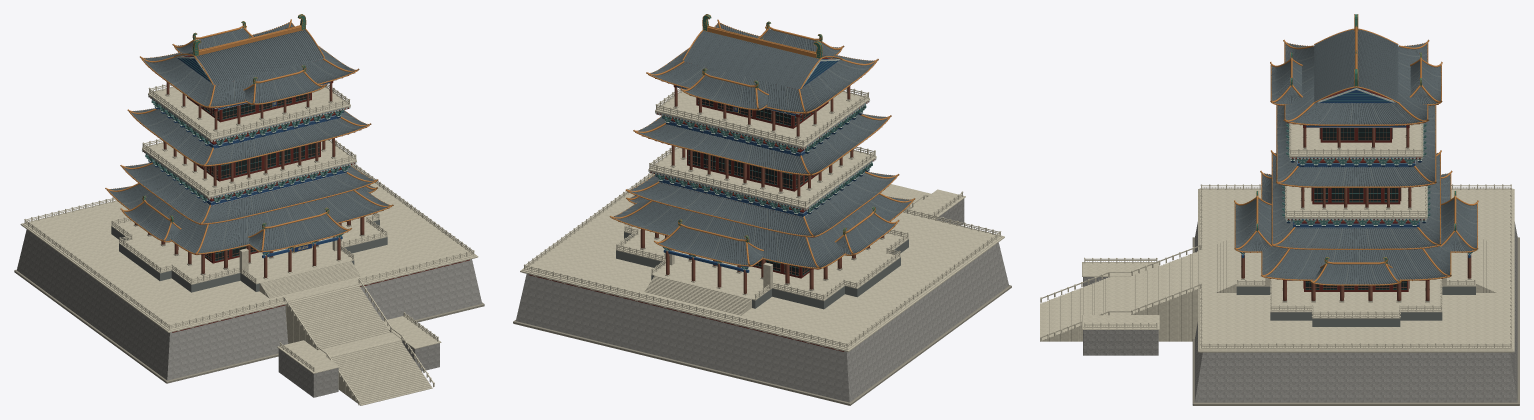
Rendered from guanque-exploration.glb.
3 renders of one model, left to right at view 1: azimuth 30°, elevation 25°; view 2: azimuth 150°, elevation 25°; view 3: azimuth 270°, elevation 25°, orthographic. The views are drawn at different scales.
Visible parts, largest first — view 1: 台基与外阶 · 内分三层 · podium · 石材 · 暖白石灰石, 台基与外阶 · 内分三层 · podium · 台基 · 灰砖包砌, 下部楼身 · 一至三层 · tile · 筒瓦 · 灰陶细纹, 下部楼身 · 一至三层 · structure · 筒瓦 · 灰陶细纹, 上部楼身 · 六层与屋顶 · tile · 筒瓦 · 灰陶细纹, 下部楼身 · 一至三层 · structure · 石材 · 暖白石灰石, 上部楼身 · 六层与屋顶 · structure · 筒瓦 · 灰陶细纹, 中部楼身 · 四至五层 · tile · 筒瓦 · 灰陶细纹, 上部楼身 · 六层与屋顶 · structure · 石材 · 暖白石灰石, 中部楼身 · 四至五层 · structure · 石材 · 暖白石灰石, 中部楼身 · 四至五层 · structure · 筒瓦 · 灰陶细纹, 下部楼身 · 一至三层 · structure · 瓦口与脊饰 · 赭金琉璃 (+21 smaller); view 2: 台基与外阶 · 内分三层 · podium · 台基 · 灰砖包砌, 台基与外阶 · 内分三层 · podium · 石材 · 暖白石灰石, 下部楼身 · 一至三层 · tile · 筒瓦 · 灰陶细纹, 下部楼身 · 一至三层 · structure · 筒瓦 · 灰陶细纹, 上部楼身 · 六层与屋顶 · tile · 筒瓦 · 灰陶细纹, 下部楼身 · 一至三层 · structure · 石材 · 暖白石灰石, 上部楼身 · 六层与屋顶 · structure · 筒瓦 · 灰陶细纹, 中部楼身 · 四至五层 · tile · 筒瓦 · 灰陶细纹, 上部楼身 · 六层与屋顶 · structure · 石材 · 暖白石灰石, 中部楼身 · 四至五层 · structure · 石材 · 暖白石灰石, 中部楼身 · 四至五层 · structure · 筒瓦 · 灰陶细纹, 下部楼身 · 一至三层 · structure · 瓦口与脊饰 · 赭金琉璃 (+21 smaller); view 3: 台基与外阶 · 内分三层 · podium · 石材 · 暖白石灰石, 台基与外阶 · 内分三层 · podium · 台基 · 灰砖包砌, 下部楼身 · 一至三层 · tile · 筒瓦 · 灰陶细纹, 上部楼身 · 六层与屋顶 · tile · 筒瓦 · 灰陶细纹, 下部楼身 · 一至三层 · structure · 筒瓦 · 灰陶细纹, 下部楼身 · 一至三层 · structure · 石材 · 暖白石灰石, 中部楼身 · 四至五层 · tile · 筒瓦 · 灰陶细纹, 上部楼身 · 六层与屋顶 · structure · 石材 · 暖白石灰石, 中部楼身 · 四至五层 · structure · 石材 · 暖白石灰石, 中部楼身 · 四至五层 · structure · 筒瓦 · 灰陶细纹, 上部楼身 · 六层与屋顶 · structure · 筒瓦 · 灰陶细纹, 台基与外阶 · 内分三层 · podium · 石材 · 基脚阴线 (+19 smaller).
Boxes of the visible parts, left/top/right/bottom form: 台基与外阶 · 内分三层 · podium · 石材 · 暖白石灰石: left=20, top=164, right=478, bottom=405; 台基与外阶 · 内分三层 · podium · 台基 · 灰砖包砌: left=17, top=229, right=481, bottom=397; 下部楼身 · 一至三层 · tile · 筒瓦 · 灰陶细纹: left=108, top=163, right=389, bottom=253; 下部楼身 · 一至三层 · structure · 筒瓦 · 灰陶细纹: left=109, top=165, right=382, bottom=253; 上部楼身 · 六层与屋顶 · tile · 筒瓦 · 灰陶细纹: left=143, top=22, right=354, bottom=106; 下部楼身 · 一至三层 · structure · 石材 · 暖白石灰石: left=111, top=213, right=387, bottom=298; 上部楼身 · 六层与屋顶 · structure · 筒瓦 · 灰陶细纹: left=144, top=23, right=351, bottom=106; 中部楼身 · 四至五层 · tile · 筒瓦 · 灰陶细纹: left=131, top=108, right=367, bottom=164; 上部楼身 · 六层与屋顶 · structure · 石材 · 暖白石灰石: left=148, top=84, right=350, bottom=140; 中部楼身 · 四至五层 · structure · 石材 · 暖白石灰石: left=142, top=139, right=356, bottom=197; 中部楼身 · 四至五层 · structure · 筒瓦 · 灰陶细纹: left=132, top=110, right=358, bottom=165; 下部楼身 · 一至三层 · structure · 瓦口与脊饰 · 赭金琉璃: left=105, top=162, right=393, bottom=254; 台基与外阶 · 内分三层 · podium · 台基 · 灰砖包砌: left=516, top=198, right=1008, bottom=402; 台基与外阶 · 内分三层 · podium · 石材 · 暖白石灰石: left=520, top=173, right=1004, bottom=352; 下部楼身 · 一至三层 · tile · 筒瓦 · 灰陶细纹: left=613, top=172, right=911, bottom=267; 下部楼身 · 一至三层 · structure · 筒瓦 · 灰陶细纹: left=621, top=173, right=910, bottom=267; 上部楼身 · 六层与屋顶 · tile · 筒瓦 · 灰陶细纹: left=650, top=23, right=875, bottom=112; 下部楼身 · 一至三层 · structure · 石材 · 暖白石灰石: left=616, top=225, right=908, bottom=315; 上部楼身 · 六层与屋顶 · structure · 筒瓦 · 灰陶细纹: left=658, top=24, right=873, bottom=112; 中部楼身 · 四至五层 · tile · 筒瓦 · 灰陶细纹: left=638, top=114, right=887, bottom=174; 上部楼身 · 六层与屋顶 · structure · 石材 · 暖白石灰石: left=655, top=88, right=869, bottom=148; 中部楼身 · 四至五层 · structure · 石材 · 暖白石灰石: left=648, top=146, right=876, bottom=208; 中部楼身 · 四至五层 · structure · 筒瓦 · 灰陶细纹: left=643, top=116, right=887, bottom=174; 下部楼身 · 一至三层 · structure · 瓦口与脊饰 · 赭金琉璃: left=609, top=171, right=915, bottom=269; 台基与外阶 · 内分三层 · podium · 石材 · 暖白石灰石: left=1040, top=184, right=1514, bottom=352; 台基与外阶 · 内分三层 · podium · 台基 · 灰砖包砌: left=1083, top=222, right=1517, bottom=402; 下部楼身 · 一至三层 · tile · 筒瓦 · 灰陶细纹: left=1235, top=153, right=1477, bottom=284; 上部楼身 · 六层与屋顶 · tile · 筒瓦 · 灰陶细纹: left=1271, top=29, right=1441, bottom=124; 下部楼身 · 一至三层 · structure · 筒瓦 · 灰陶细纹: left=1235, top=155, right=1476, bottom=284; 下部楼身 · 一至三层 · structure · 石材 · 暖白石灰石: left=1215, top=237, right=1496, bottom=318; 中部楼身 · 四至五层 · tile · 筒瓦 · 灰陶细纹: left=1277, top=105, right=1435, bottom=186; 上部楼身 · 六层与屋顶 · structure · 石材 · 暖白石灰石: left=1289, top=123, right=1423, bottom=157; 中部楼身 · 四至五层 · structure · 石材 · 暖白石灰石: left=1285, top=186, right=1427, bottom=218; 中部楼身 · 四至五层 · structure · 筒瓦 · 灰陶细纹: left=1277, top=105, right=1434, bottom=186; 上部楼身 · 六层与屋顶 · structure · 筒瓦 · 灰陶细纹: left=1272, top=44, right=1440, bottom=124; 台基与外阶 · 内分三层 · podium · 石材 · 基脚阴线: left=1192, top=237, right=1519, bottom=405.
Size of the model in its own units: 94 by 73.9 by 114.
20 materials, 5 textured.
